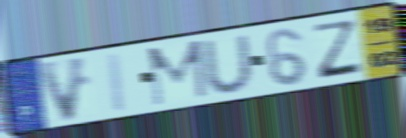6: (264, 25, 310, 89)
I: (105, 50, 130, 115)
M: (145, 37, 210, 109)
U: (200, 32, 257, 95)
V: (35, 54, 90, 125)
Z: (312, 18, 365, 81)
